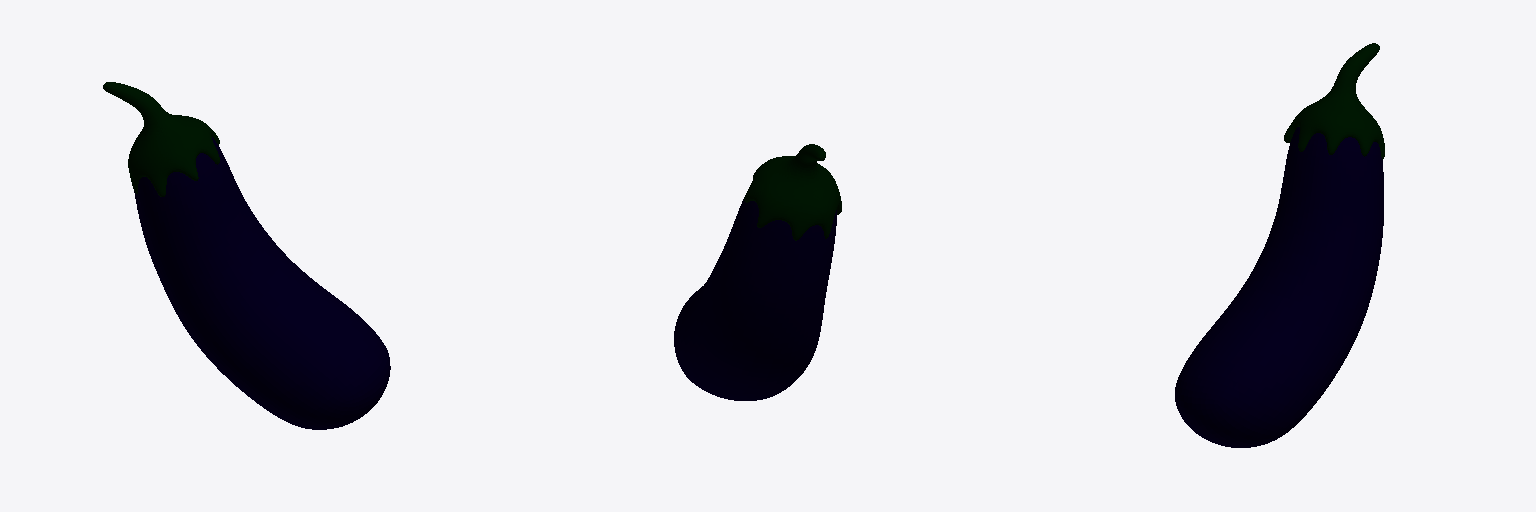
File: eggplant.obj
The picture shows the model from 3 angles: view 1: azimuth 30°, elevation 25°; view 2: azimuth 150°, elevation 25°; view 3: azimuth 270°, elevation 25°; orthographic projection.
Parts seen in each view (by area): view 1: Cube, Cube.004_Cube.006; view 2: Cube, Cube.004_Cube.006; view 3: Cube, Cube.004_Cube.006.
Part boxes in pixels (x1,y1,x2,y2): Cube: (134, 137, 390, 429); Cube.004_Cube.006: (103, 82, 219, 196); Cube: (674, 199, 836, 400); Cube.004_Cube.006: (744, 144, 841, 240); Cube: (1175, 127, 1383, 447); Cube.004_Cube.006: (1284, 43, 1384, 159).
Bounding box in the file's own units: 1.14 × 1.7 × 0.9941.